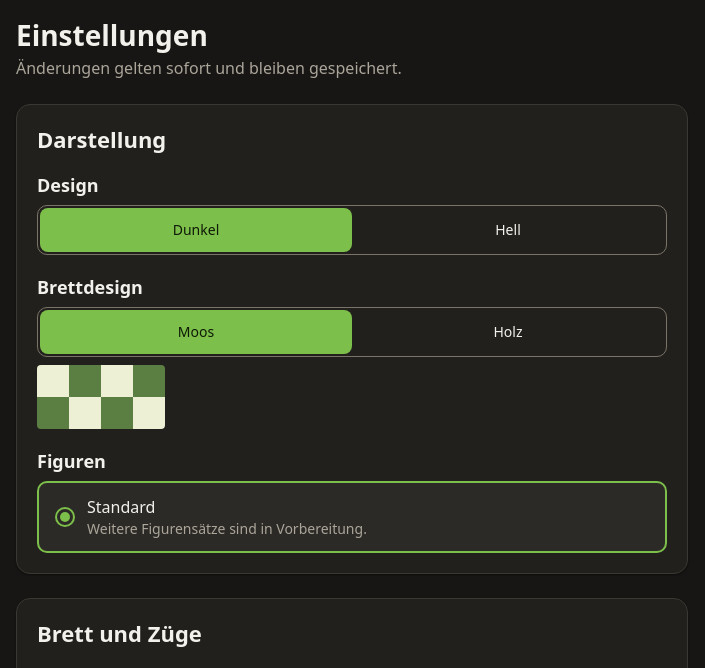
settings page › switches the board design and keeps the default piece set
Expected: the heading "Einstellungen" is shown, [16, 16, 208, 54]
Click the radio button labelled "Holz". click: (508, 332)
box: [352, 310, 664, 354]
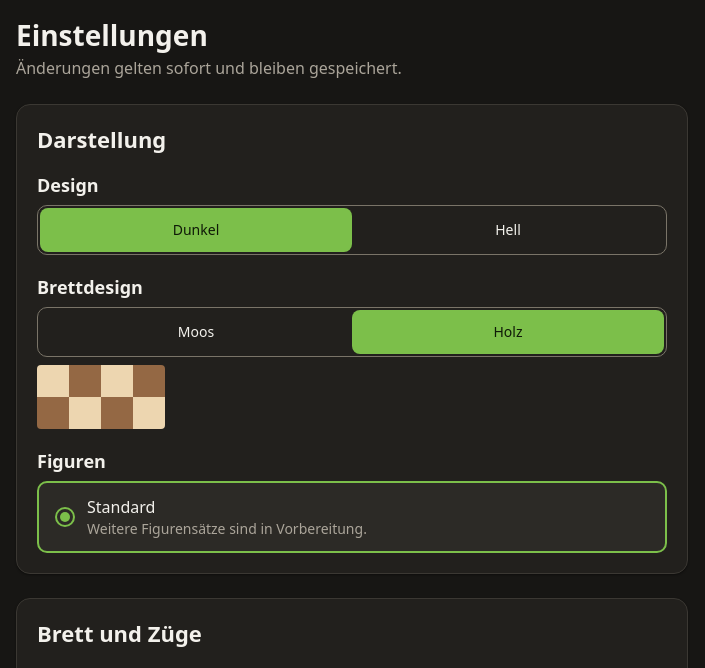
Expected: the picture named "Vorschau Brettdesign Holz" is shown, [37, 365, 165, 429]
